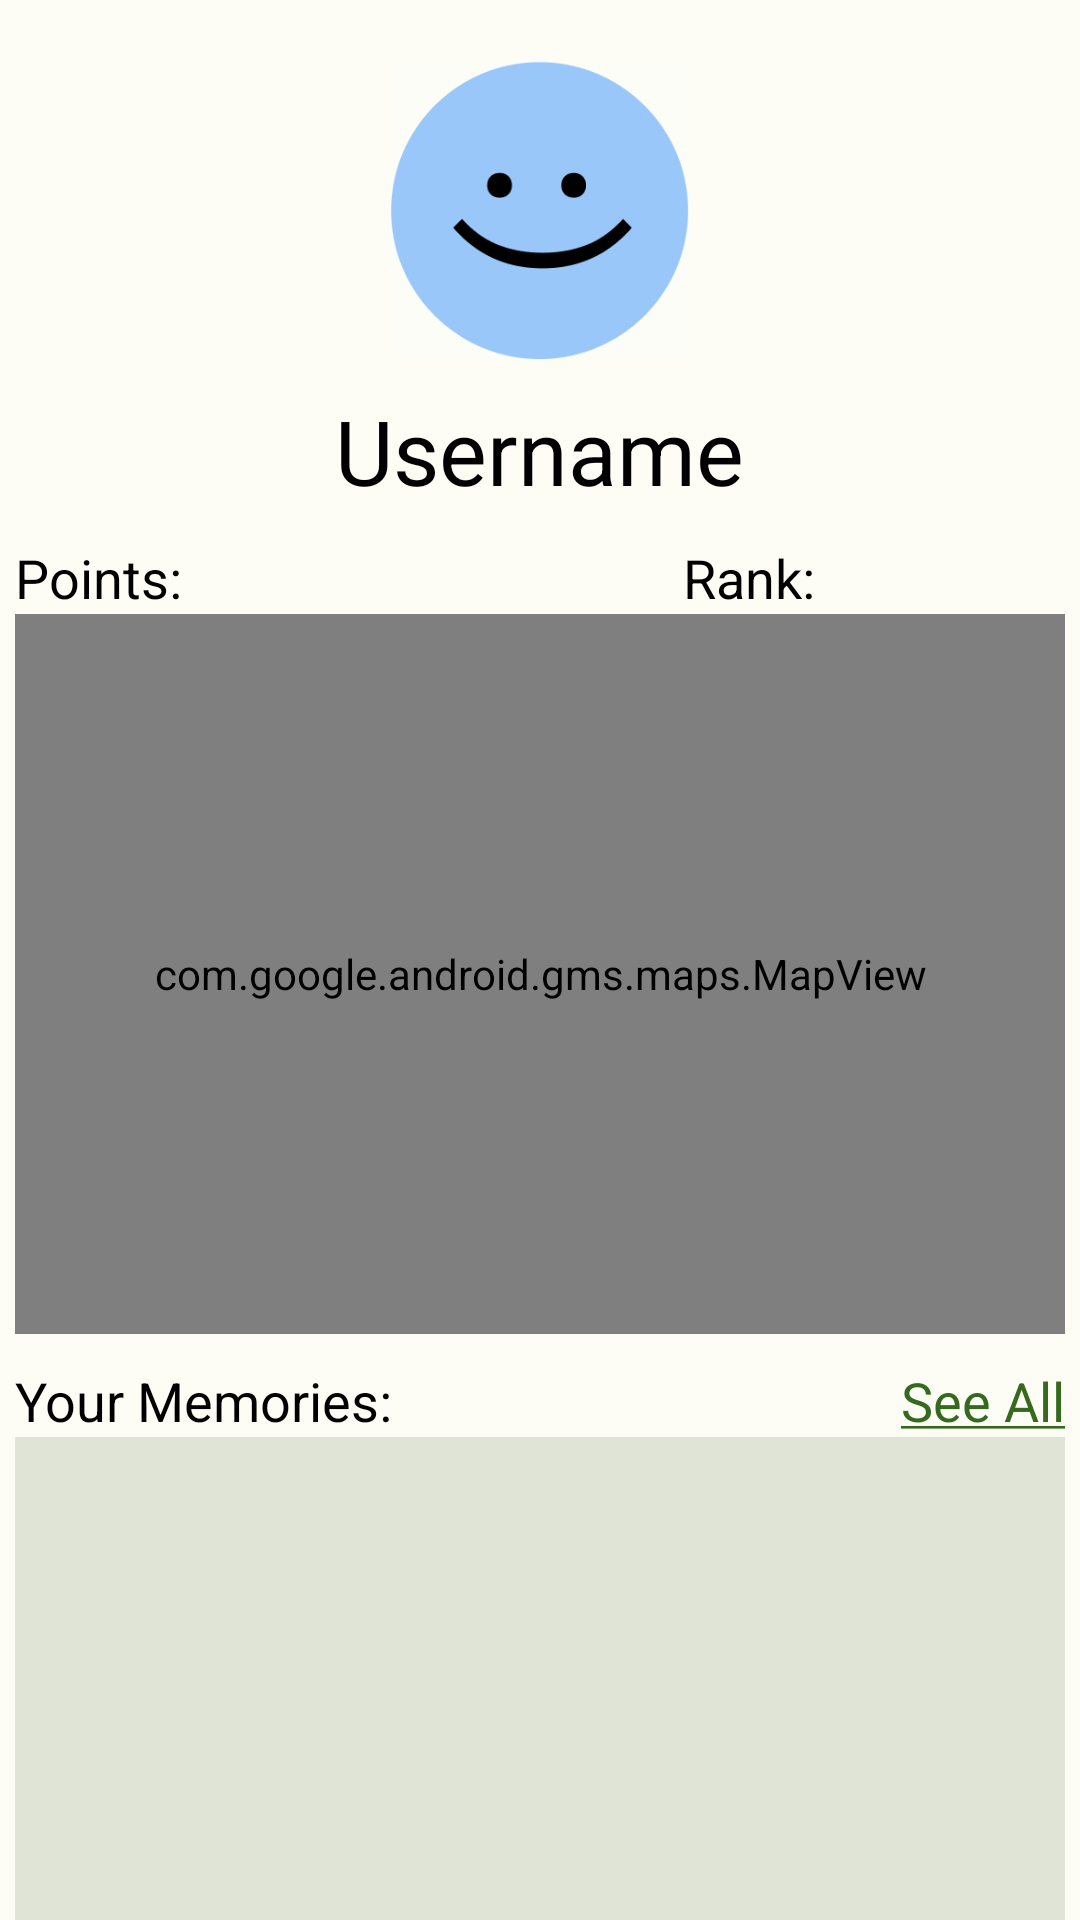

Point at icon controls on the screen. Image size 1080x1920, points as (x=x, y=y).
profile: (x=539, y=210)
